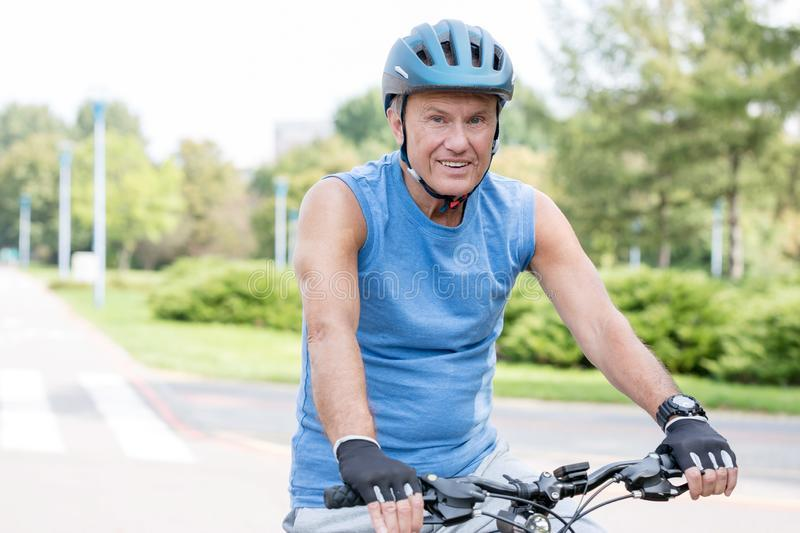Helmet: (380, 19, 516, 112)
